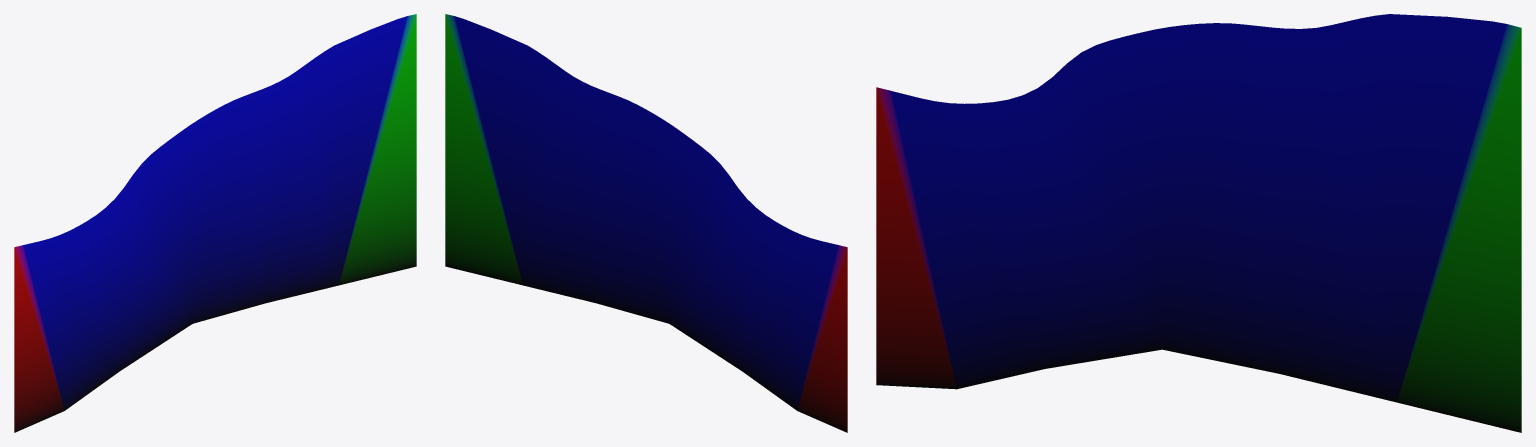
File: slope1test.fbx
3 views of the same model, side by side, from view 1: azimuth 30°, elevation 25°; view 2: azimuth 150°, elevation 25°; view 3: azimuth 330°, elevation 25° (orthographic). The views are drawn at different scales.
Parts seen in each view (by area): view 1: polySurface1; view 2: polySurface1; view 3: polySurface1.
Part boxes in pixels (x1,y1,x2,y2): polySurface1: [14, 14, 416, 432]; polySurface1: [445, 14, 847, 432]; polySurface1: [876, 14, 1521, 432].
Size of the model in its own units: 1458 by 1112 by 0.
